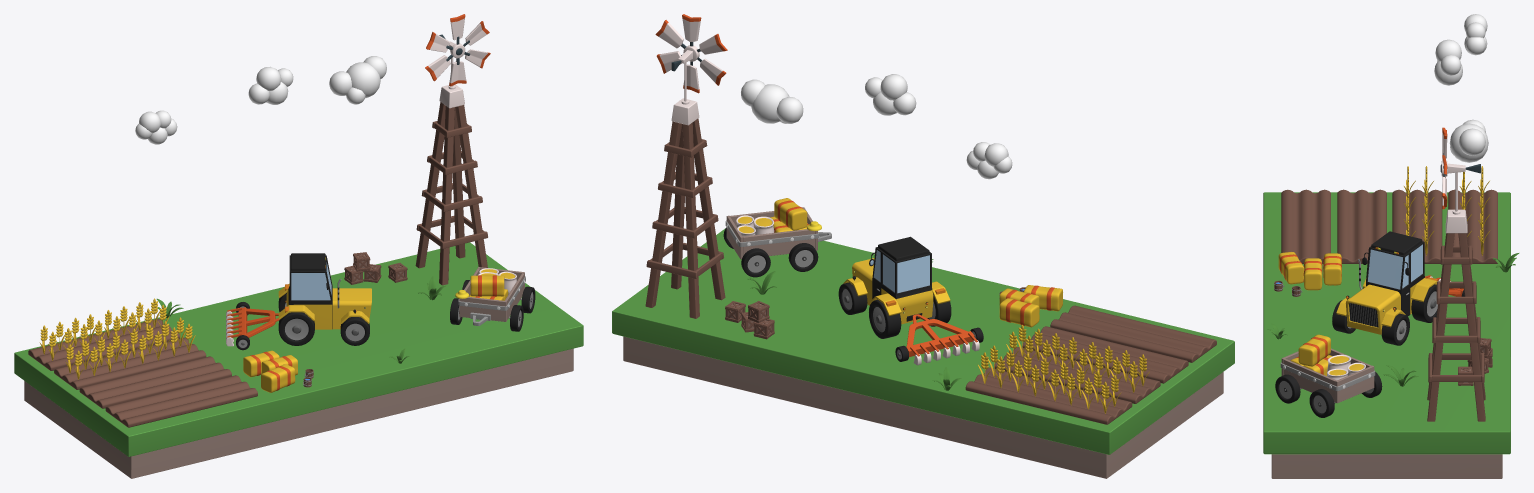
The model's file is Island_8.fbx.
The picture shows the model from 3 angles, left to right: view 1: azimuth 30°, elevation 25°; view 2: azimuth 150°, elevation 25°; view 3: azimuth 270°, elevation 25°; orthographic projection. The views are drawn at different scales.
Visible parts, largest first — view 1: Isl_8_Base_1, Isl_8_Windmill_1, Isl_8_Tractor_1, Isl_8_Garden_2, Isl_8_Garden_3, Isl_8_Garden_1, Isl_8_Trailer_1, Isl_8_Garden_4, Isl_8_Cloud_3, Isl_8_Tractor_Plow_1, Isl_8_Cloud_2, Isl_8_Cloud_1 (+2 smaller); view 2: Isl_8_Base_1, Isl_8_Windmill_1, Isl_8_Tractor_1, Isl_8_Garden_2, Isl_8_Garden_4, Isl_8_Trailer_1, Isl_8_Garden_3, Isl_8_Garden_1, Isl_8_Tractor_Plow_1, Isl_8_Cloud_3, Isl_8_Cloud_2, Isl_8_Cloud_1 (+3 smaller); view 3: Isl_8_Base_1, Isl_8_Tractor_1, Isl_8_Windmill_1, Isl_8_Trailer_1, Isl_8_Garden_2, Isl_8_Garden_3, Isl_8_Garden_1, Isl_8_Garden_4, Isl_8_Cloud_3, Isl_8_Cloud_2, Isl_8_Cloud_1, Isl_8_Hay_5 (+4 smaller).
Boxes of the visible parts, x1,y1,x2,y2 form: Isl_8_Base_1: (14, 242, 583, 478); Isl_8_Windmill_1: (415, 14, 490, 285); Isl_8_Tractor_1: (278, 253, 371, 345); Isl_8_Garden_2: (105, 375, 257, 427); Isl_8_Garden_3: (79, 356, 231, 408); Isl_8_Garden_1: (54, 337, 206, 389); Isl_8_Trailer_1: (450, 267, 535, 331); Isl_8_Garden_4: (28, 318, 179, 370); Isl_8_Cloud_3: (329, 56, 386, 104); Isl_8_Tractor_Plow_1: (226, 302, 279, 350); Isl_8_Cloud_2: (248, 66, 293, 104); Isl_8_Cloud_1: (135, 110, 177, 144); Isl_8_Base_1: (612, 228, 1234, 478); Isl_8_Windmill_1: (645, 14, 727, 318); Isl_8_Tractor_1: (838, 236, 951, 338); Isl_8_Garden_2: (1050, 305, 1216, 362); Isl_8_Garden_4: (965, 367, 1132, 424); Isl_8_Trailer_1: (723, 207, 831, 277); Isl_8_Garden_3: (1022, 326, 1188, 383); Isl_8_Garden_1: (994, 347, 1160, 403); Isl_8_Tractor_Plow_1: (895, 314, 983, 365); Isl_8_Cloud_3: (741, 79, 803, 123); Isl_8_Cloud_2: (865, 74, 916, 115); Isl_8_Cloud_1: (966, 142, 1012, 179); Isl_8_Base_1: (1263, 192, 1510, 478); Isl_8_Tractor_1: (1332, 231, 1437, 345); Isl_8_Windmill_1: (1427, 127, 1485, 421); Isl_8_Trailer_1: (1275, 348, 1382, 417); Isl_8_Garden_2: (1281, 189, 1330, 263); Isl_8_Garden_3: (1337, 189, 1386, 263); Isl_8_Garden_1: (1392, 189, 1442, 263); Isl_8_Garden_4: (1448, 189, 1497, 263); Isl_8_Cloud_3: (1449, 119, 1488, 162); Isl_8_Cloud_2: (1434, 39, 1462, 85); Isl_8_Cloud_1: (1464, 14, 1487, 55); Isl_8_Hay_5: (1298, 334, 1330, 366).
Size of the model in its own units: 2569 by 1642 by 1159.
